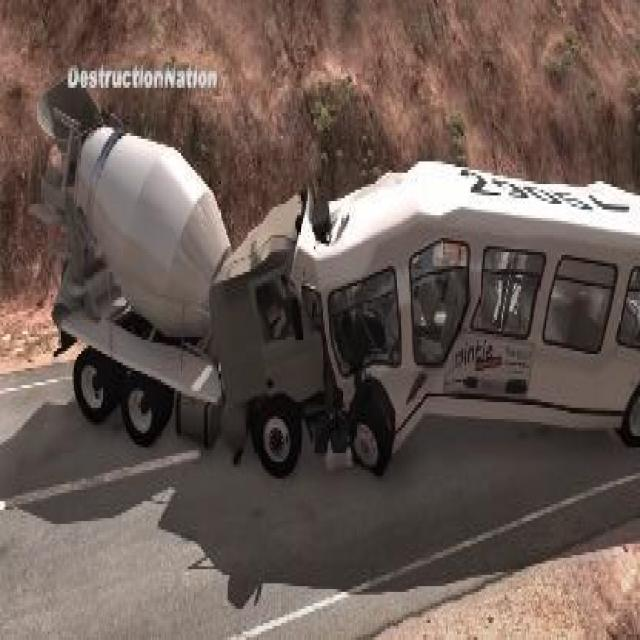accident: (47, 101, 640, 484)
